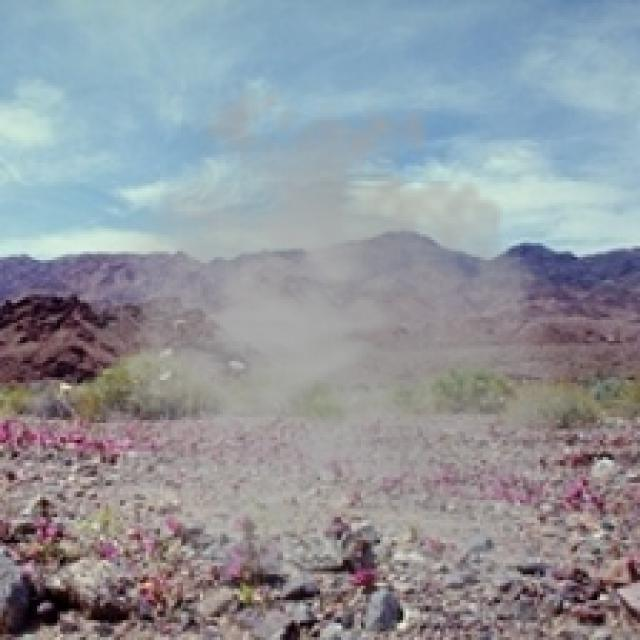Smoke: (57, 71, 603, 614)
